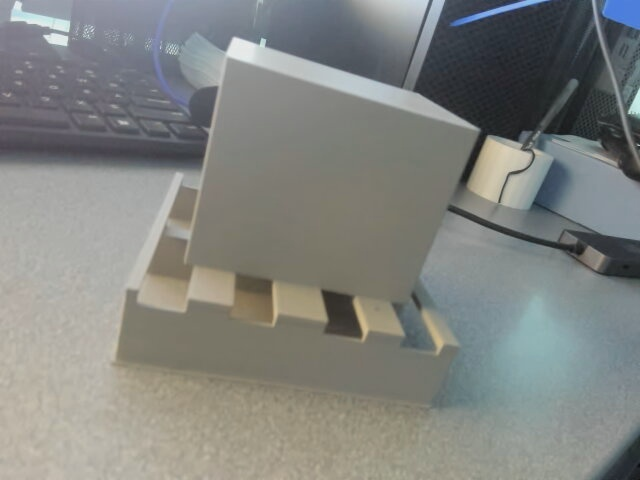grey pallet: (109, 35, 485, 410)
